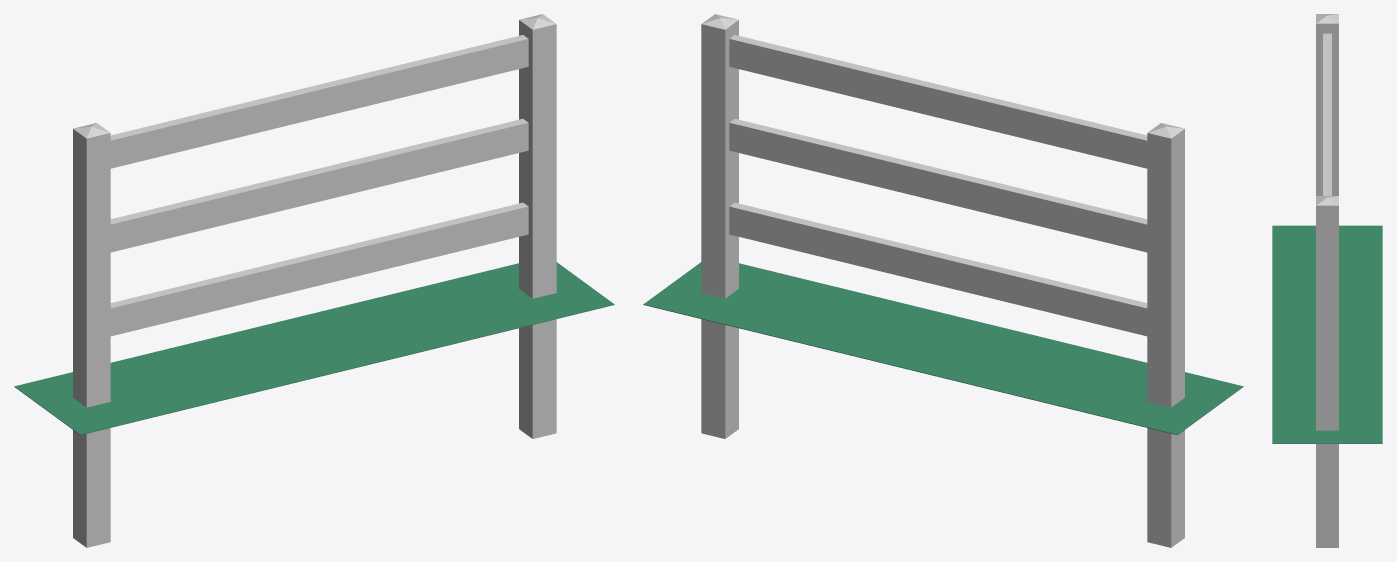
3 views of the same model, side by side, from view 1: azimuth 30°, elevation 25°; view 2: azimuth 150°, elevation 25°; view 3: azimuth 270°, elevation 25° (orthographic). The views are drawn at different scales.
Parts seen in each view (by area): view 1: Mesh_Mesh_head_geo.001_lambert2SG.001; view 2: Mesh_Mesh_head_geo.001_lambert2SG.001; view 3: Mesh_Mesh_head_geo.001_lambert2SG.001.
Boxes of the visible parts, <box> form: Mesh_Mesh_head_geo.001_lambert2SG.001: <box>14,14,614,547</box>; Mesh_Mesh_head_geo.001_lambert2SG.001: <box>643,14,1243,547</box>; Mesh_Mesh_head_geo.001_lambert2SG.001: <box>1272,14,1382,547</box>.
Bounding box in the file's own units: 0.28 × 0.207 × 0.06.
